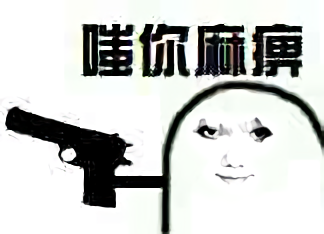dragon: (195, 120, 276, 186)
